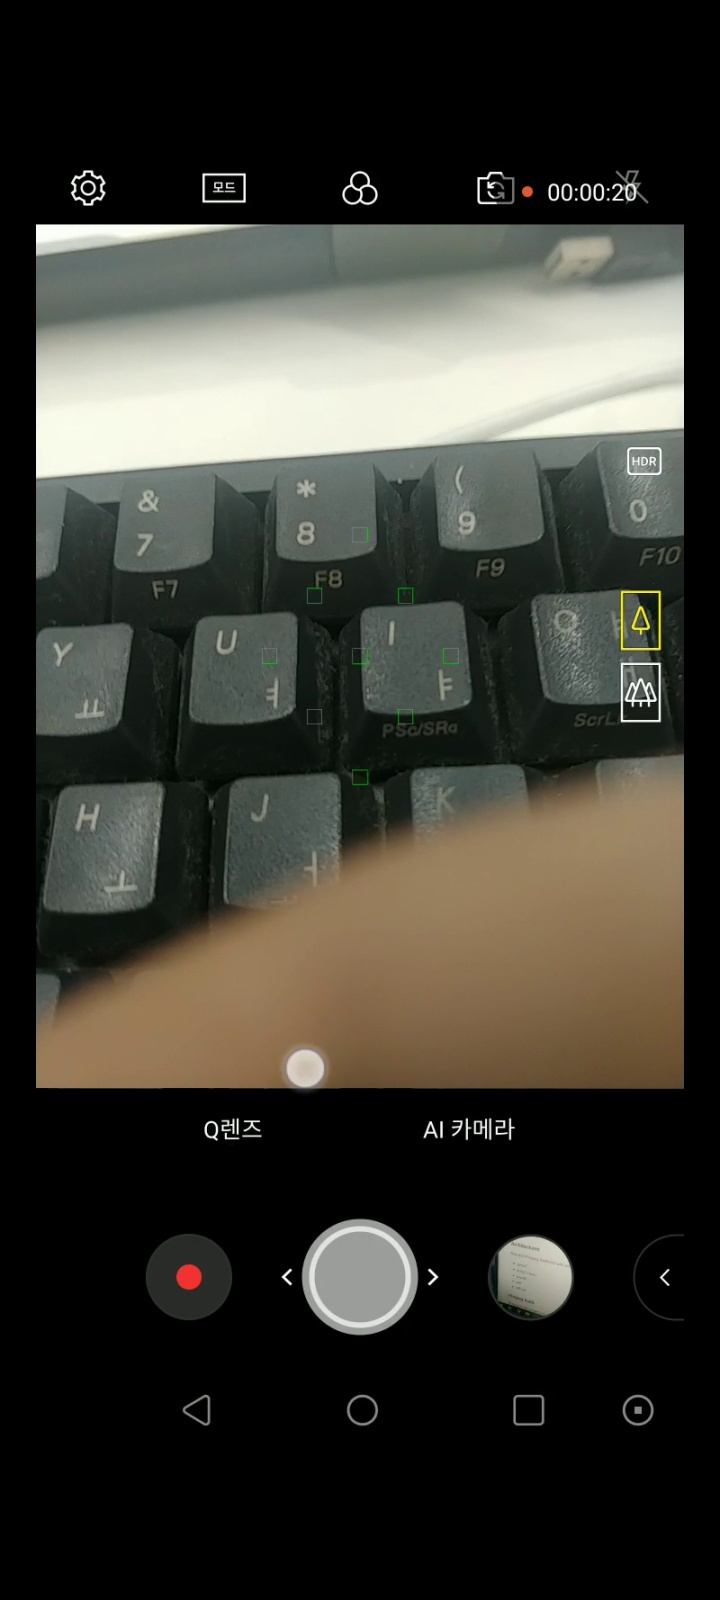Cursor: (282, 1045, 328, 1091)
